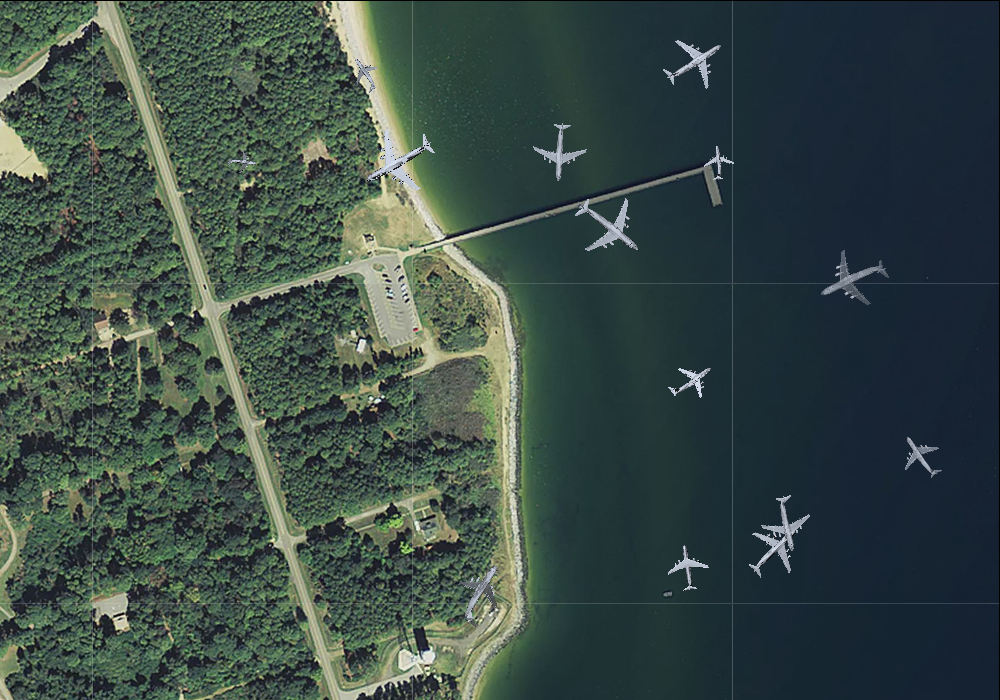plane: (559, 177, 658, 277), (349, 112, 448, 209), (807, 234, 900, 326), (651, 19, 736, 104), (440, 552, 523, 637), (733, 510, 815, 592), (755, 490, 820, 557), (889, 423, 954, 489), (659, 349, 722, 412), (531, 121, 589, 182), (662, 542, 712, 594), (340, 50, 388, 98), (699, 143, 736, 181), (225, 147, 258, 178)
